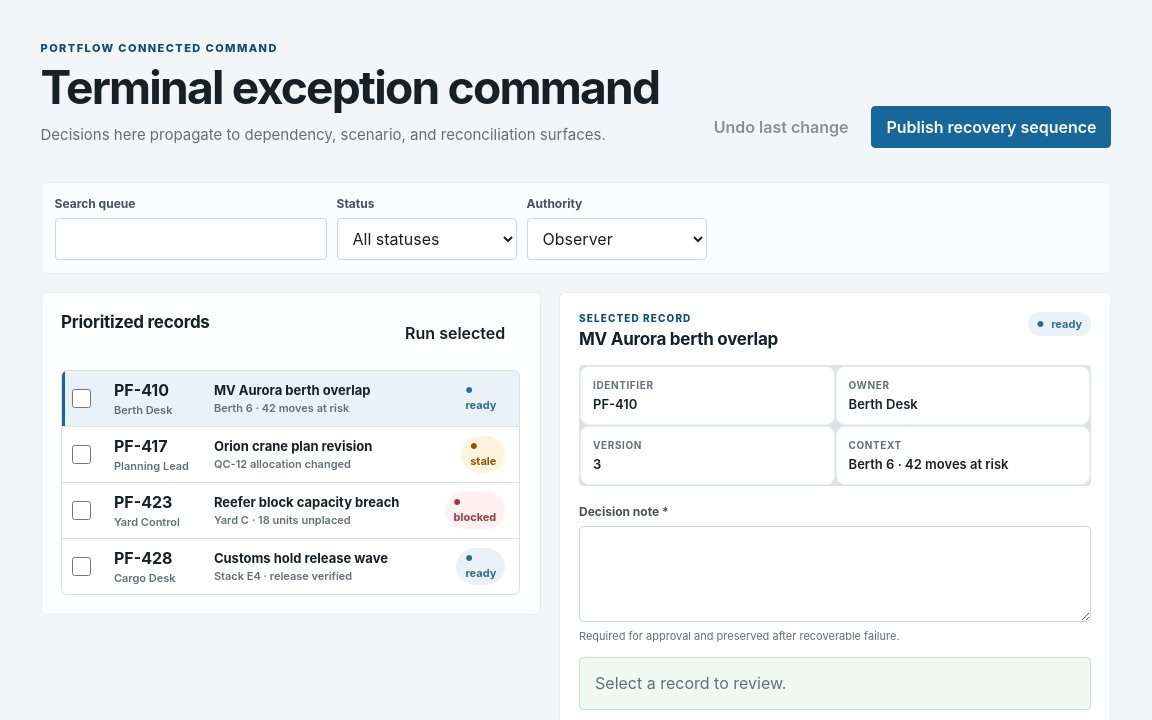
it: Terminal exception command › enforces authority and validates the explanation
Click the button "Publish recovery sequence" at (992, 127), box [872,106,1112,148]
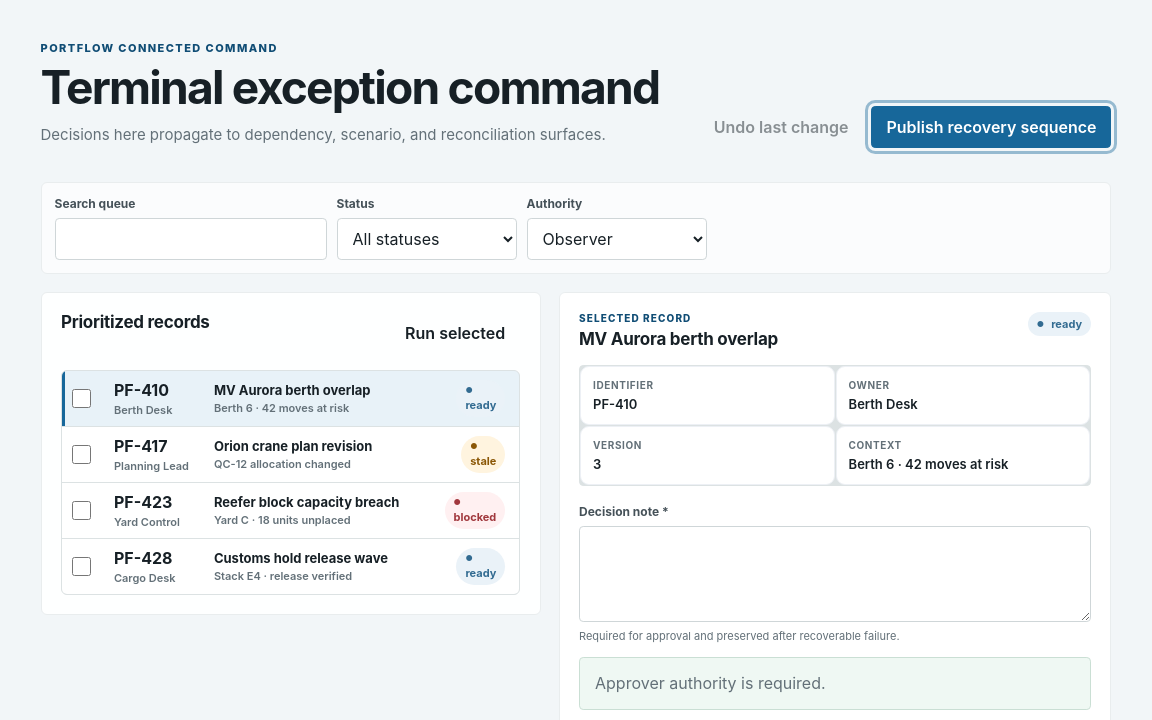
Now the message shows "Approver authority", box [595,673,826,693]
Select "Approver" in the dropdown labelled "Authority" at (616, 239), box [526,218,706,260]
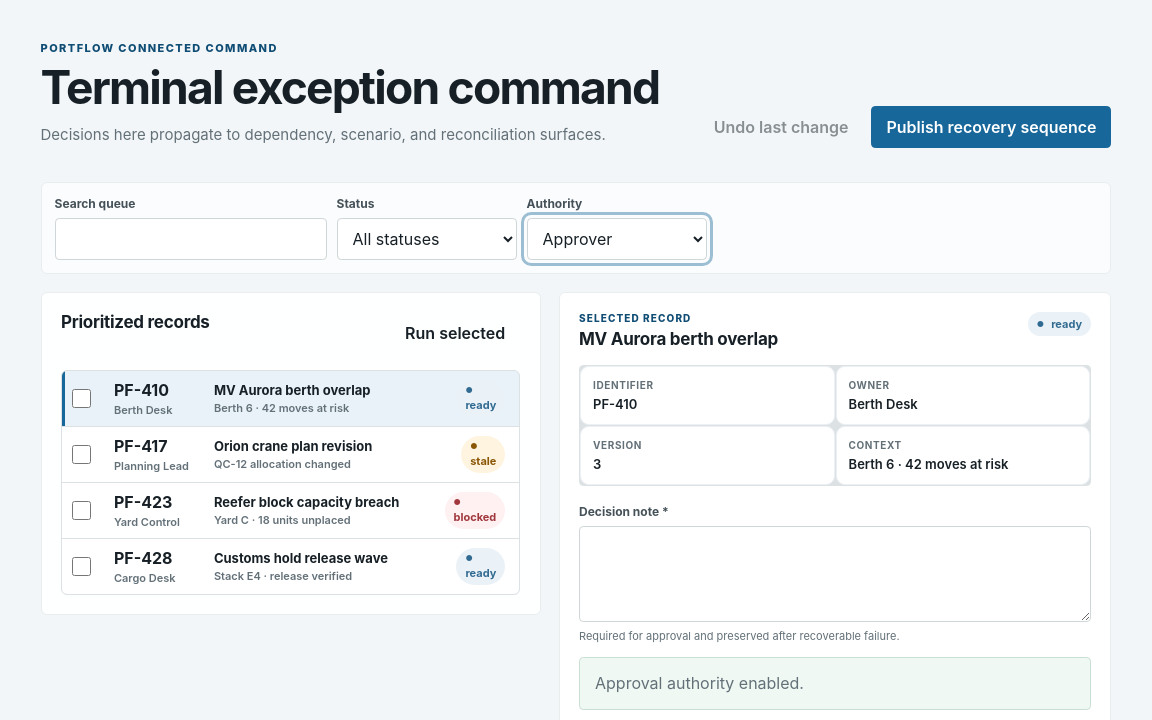
Type "short" into the text box labelled "Decision note" at (835, 574), box [579,526,1091,622]
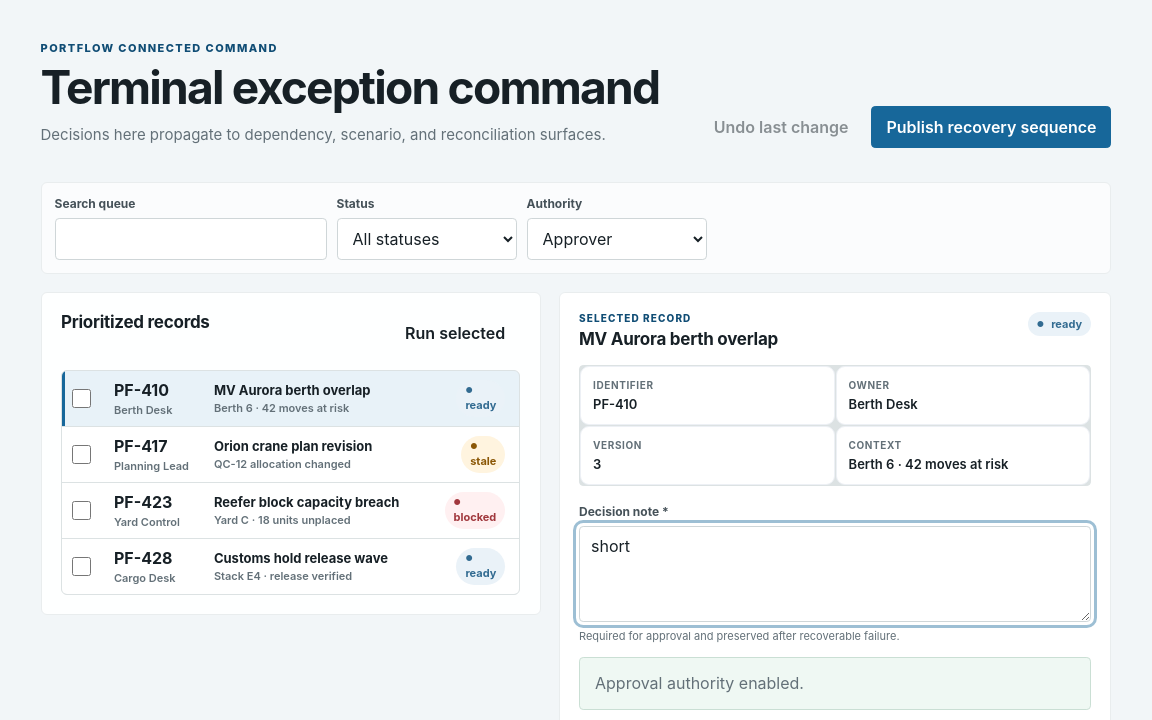
Click the button "Publish recovery sequence" at (992, 127), box [872,106,1112,148]
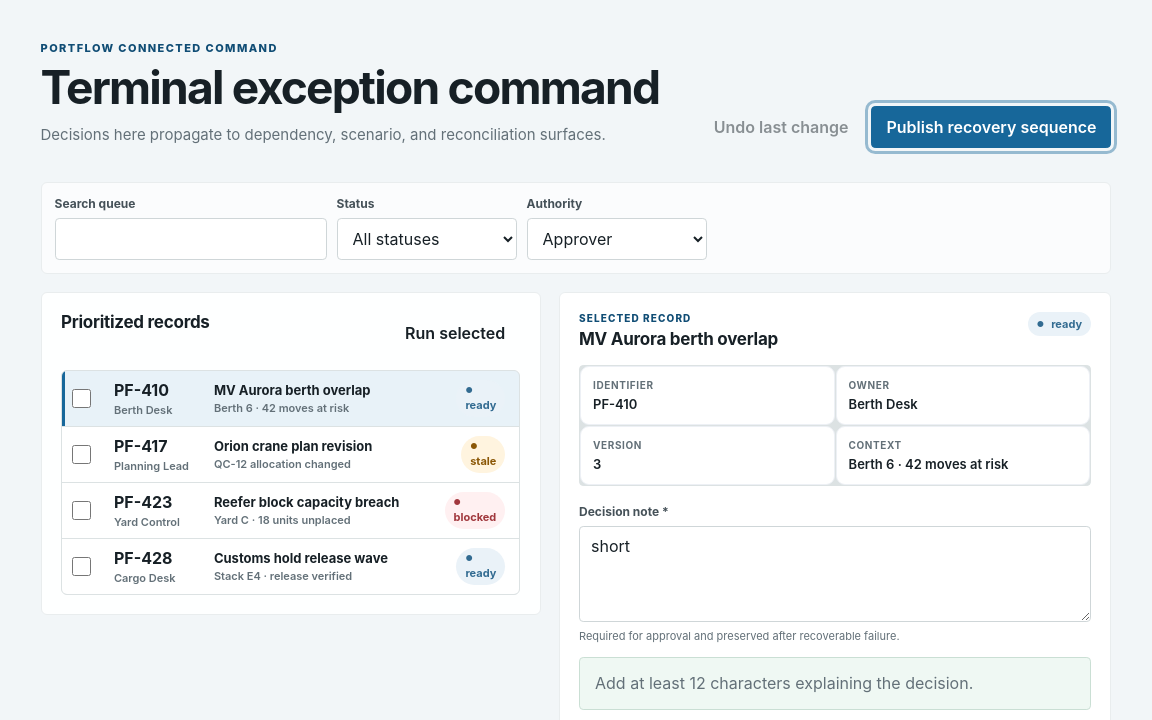
Now the message shows "12 characters", box [595,673,973,693]
